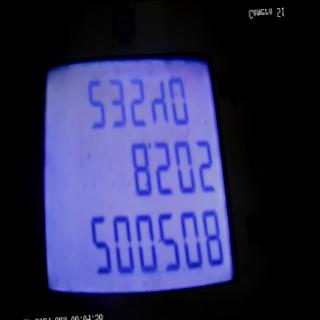screen: (23, 24, 242, 320)
